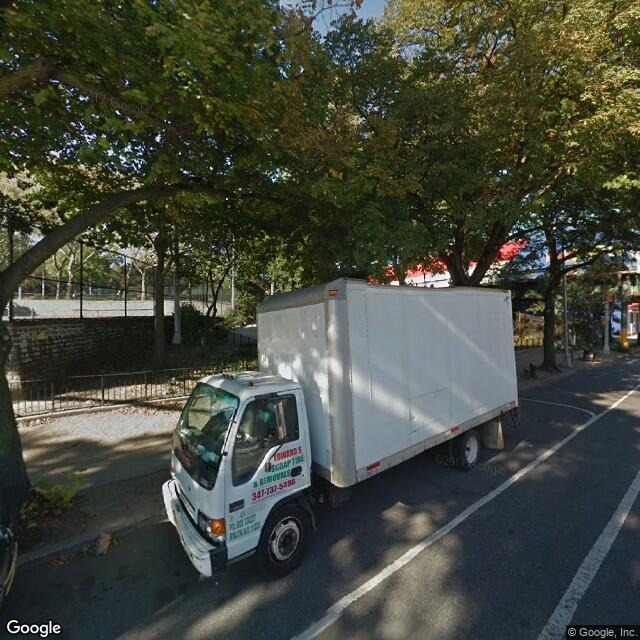litter: (95, 534, 112, 556)
